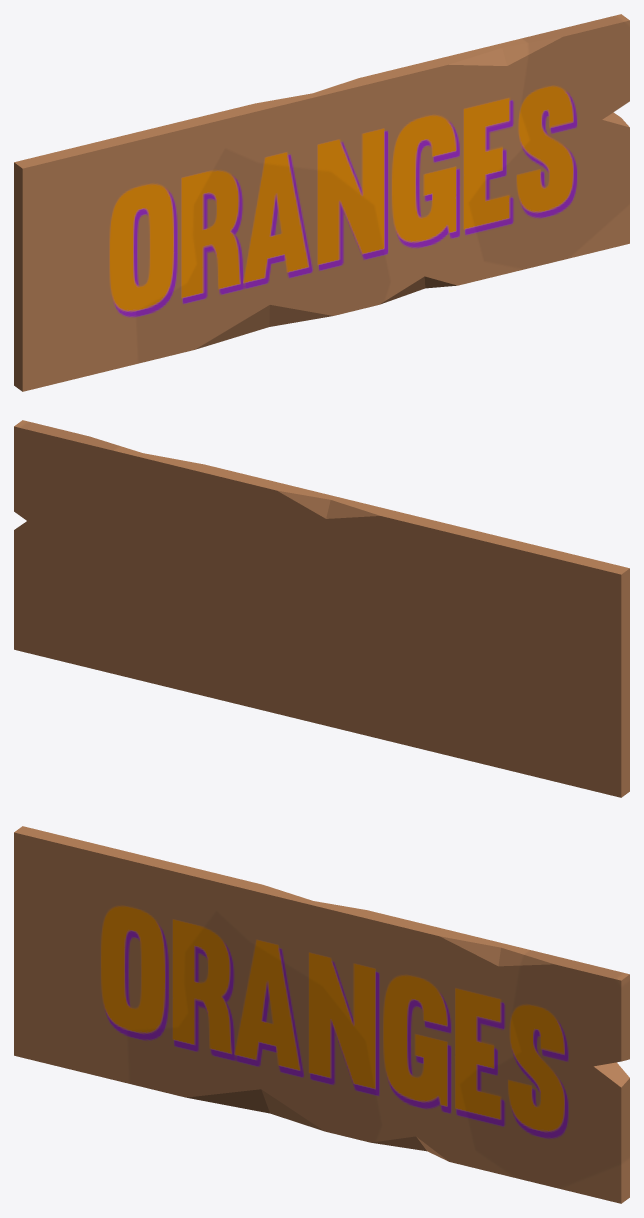
The model's file is SM_Prop_Sign_Oranges_01.fbx.
The picture shows the model from 3 angles, top to bottom: view 1: azimuth 30°, elevation 25°; view 2: azimuth 150°, elevation 25°; view 3: azimuth 330°, elevation 25°; orthographic projection.
Parts seen in each view (by area): view 1: SM_Prop_Sign_Oranges_01; view 2: SM_Prop_Sign_Oranges_01; view 3: SM_Prop_Sign_Oranges_01.
Part boxes in pixels (box(x1,y1,x2,y2)): SM_Prop_Sign_Oranges_01: box(14, 14, 629, 391); SM_Prop_Sign_Oranges_01: box(14, 420, 629, 797); SM_Prop_Sign_Oranges_01: box(14, 826, 629, 1203).
Size of the model in its own units: 85.51 by 30.04 by 2.12.
